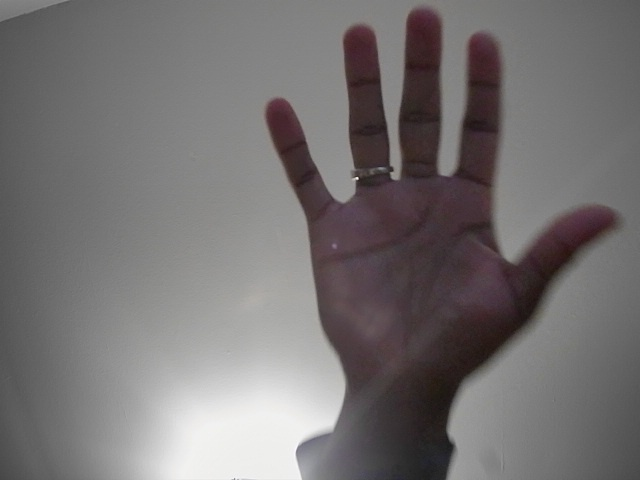Hello: (246, 1, 622, 417)
